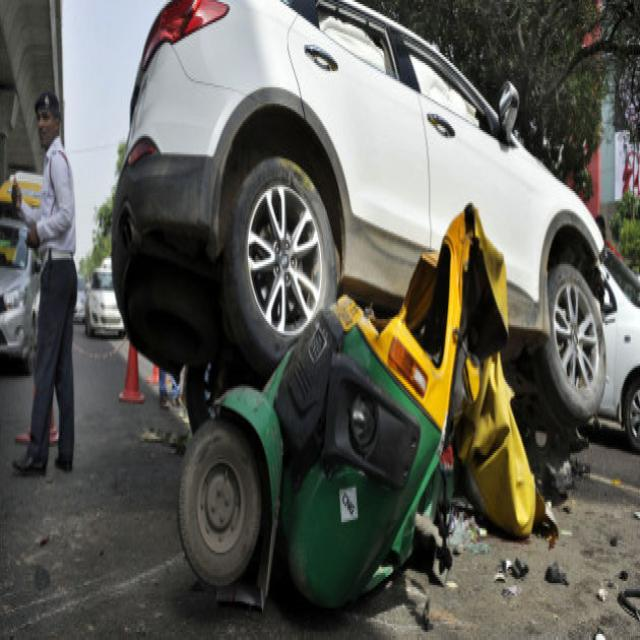accident: (114, 0, 605, 421), (179, 205, 550, 606)
